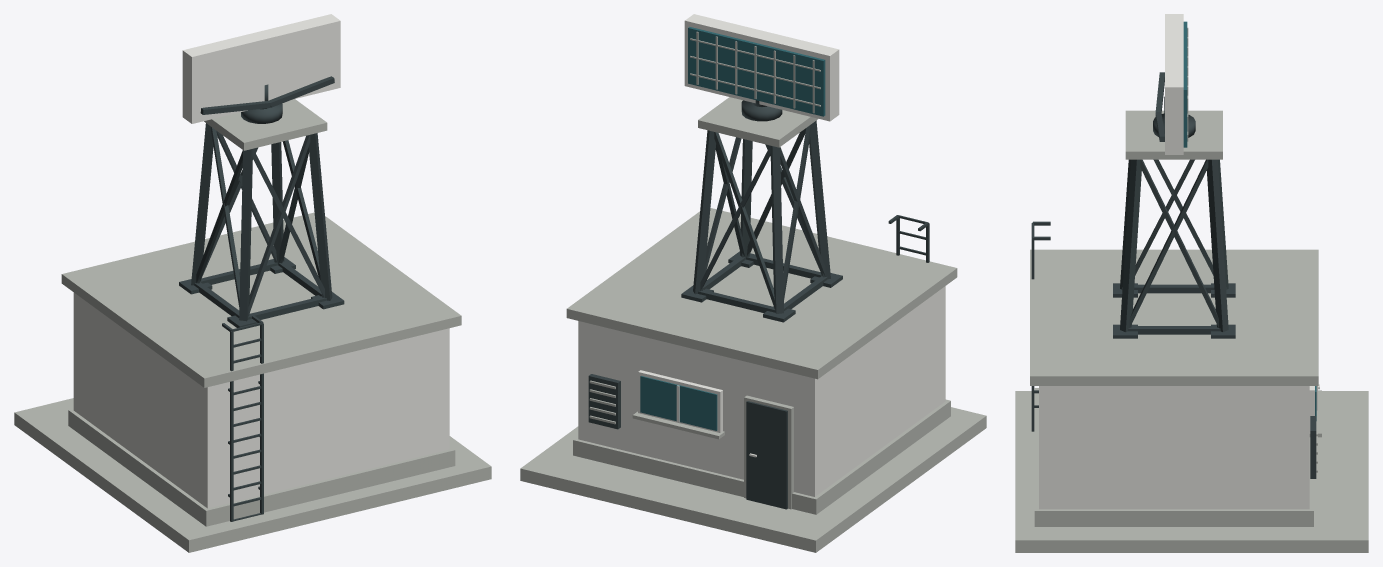
The model's file is ENV_RadarStation_LOD1.fbx.
3 views of the same model, side by side, from view 1: azimuth 30°, elevation 25°; view 2: azimuth 150°, elevation 25°; view 3: azimuth 270°, elevation 25° (orthographic). The views are drawn at different scales.
Parts seen in each view (by area): view 1: ENV_RadarStation_Root_Visual, SearchArrayHead_Visual; view 2: ENV_RadarStation_Root_Visual, SearchArrayHead_Visual; view 3: ENV_RadarStation_Root_Visual, SearchArrayHead_Visual.
Boxes of the visible parts, bbox=[...] form: ENV_RadarStation_Root_Visual: bbox=[14, 99, 491, 552]; SearchArrayHead_Visual: bbox=[182, 14, 340, 123]; ENV_RadarStation_Root_Visual: bbox=[520, 97, 986, 552]; SearchArrayHead_Visual: bbox=[684, 14, 839, 121]; ENV_RadarStation_Root_Visual: bbox=[1015, 110, 1368, 552]; SearchArrayHead_Visual: bbox=[1155, 14, 1188, 154].
Bounding box in the file's own units: 600 × 802 × 600.
